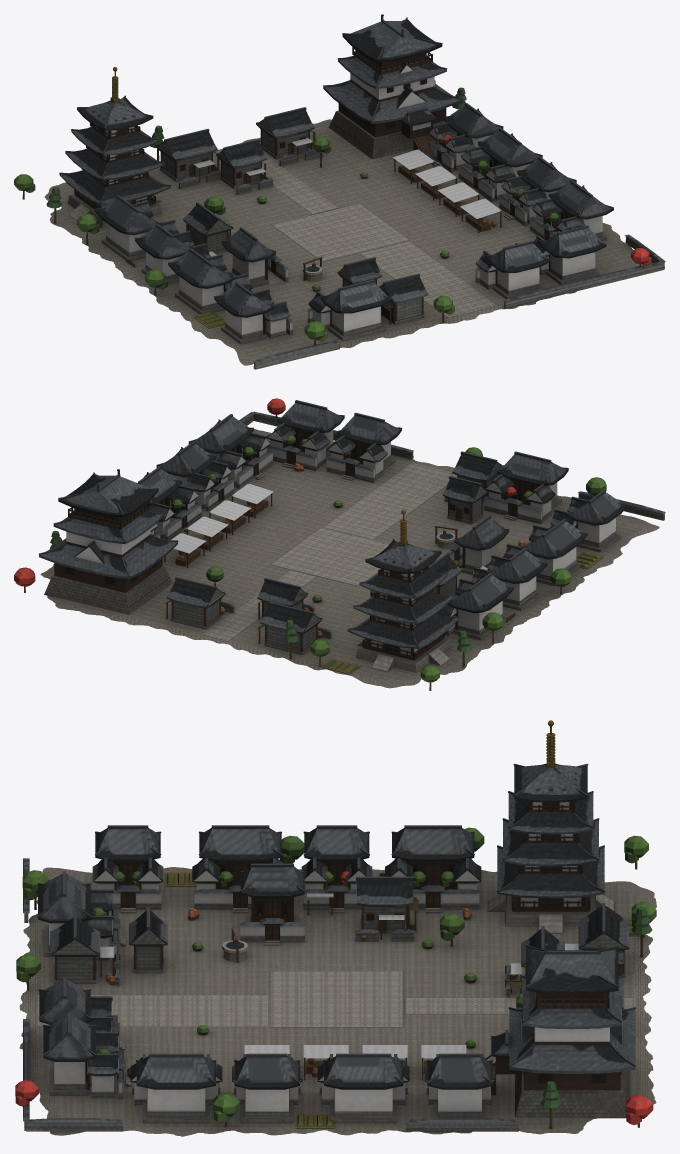
File: kingdoms-town-medium-a-japan.glb
3 renders of one model, top to bottom at view 1: azimuth 30°, elevation 25°; view 2: azimuth 150°, elevation 25°; view 3: azimuth 270°, elevation 25°, orthographic. The views are drawn at different scales.
Parts seen in each view (by area): view 1: LOD0; view 2: LOD0; view 3: LOD0.
Boxes of the visible parts, x1,y1,x2,y2 form: LOD0: (14,14,665,369); LOD0: (14,398,665,690); LOD0: (15,720,656,1136).
Size of what is drawn, in the model's own units: 6.04 by 1.95 by 6.09.
3 materials, 3 textured.
